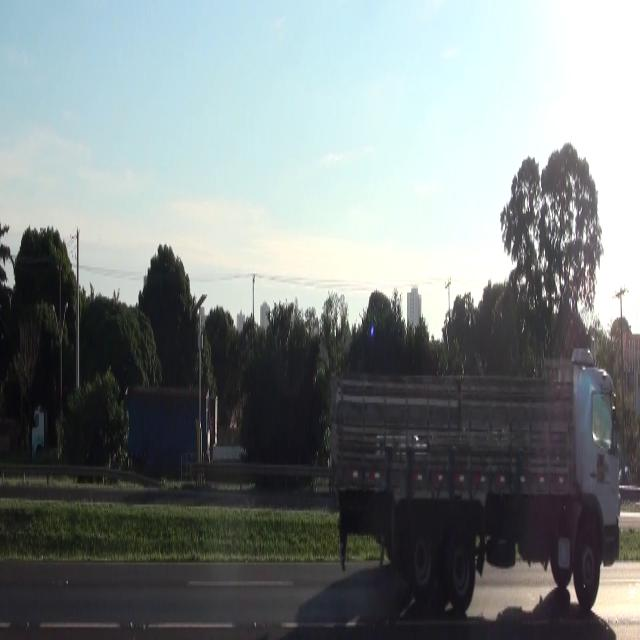-axle: (406, 515, 438, 606), (446, 520, 476, 612), (575, 524, 600, 607)
